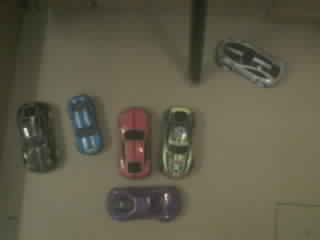Car: (217, 40, 282, 86), (108, 186, 181, 221), (19, 103, 55, 171), (161, 106, 193, 177), (120, 107, 151, 177), (69, 95, 101, 152)
